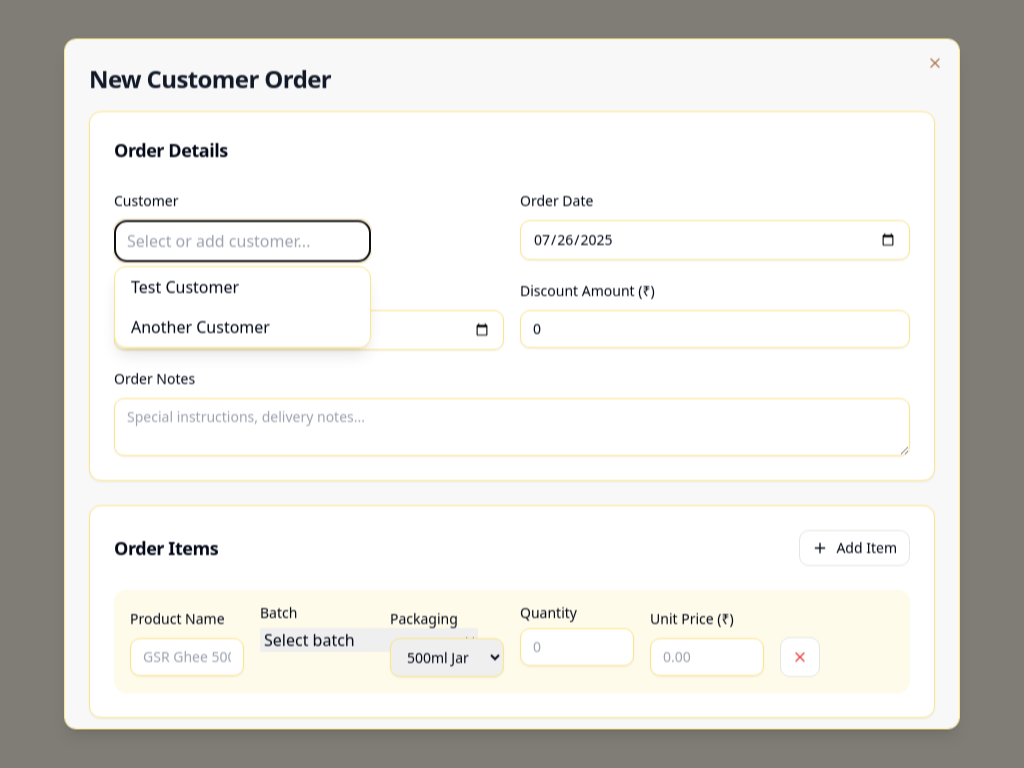
Test: OrderForm › should show validation error message for invalid batch selection
This screenshot has width=1024, height=768.
Select batch and enter excessive quantity
Select "GR-2024-001 20L available" in the dropdown named "batch": (369, 640) [260, 628, 478, 652]
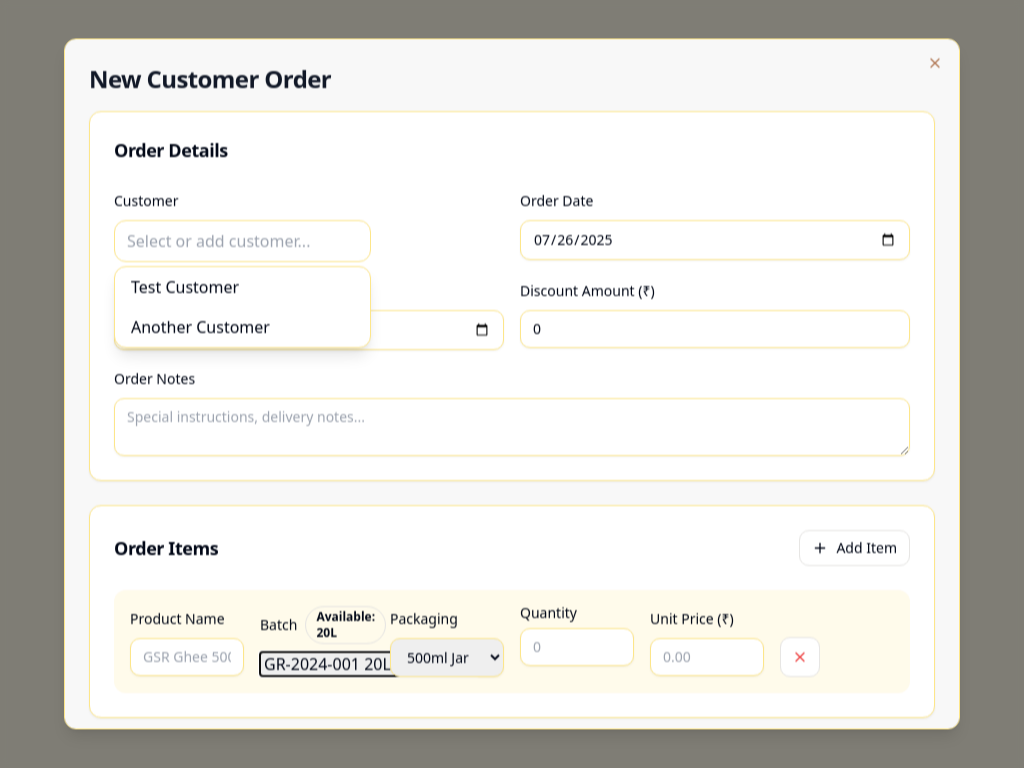
In the number field labelled "Quantity": (577, 647) [520, 628, 634, 666], type "30"
(page scrolled)
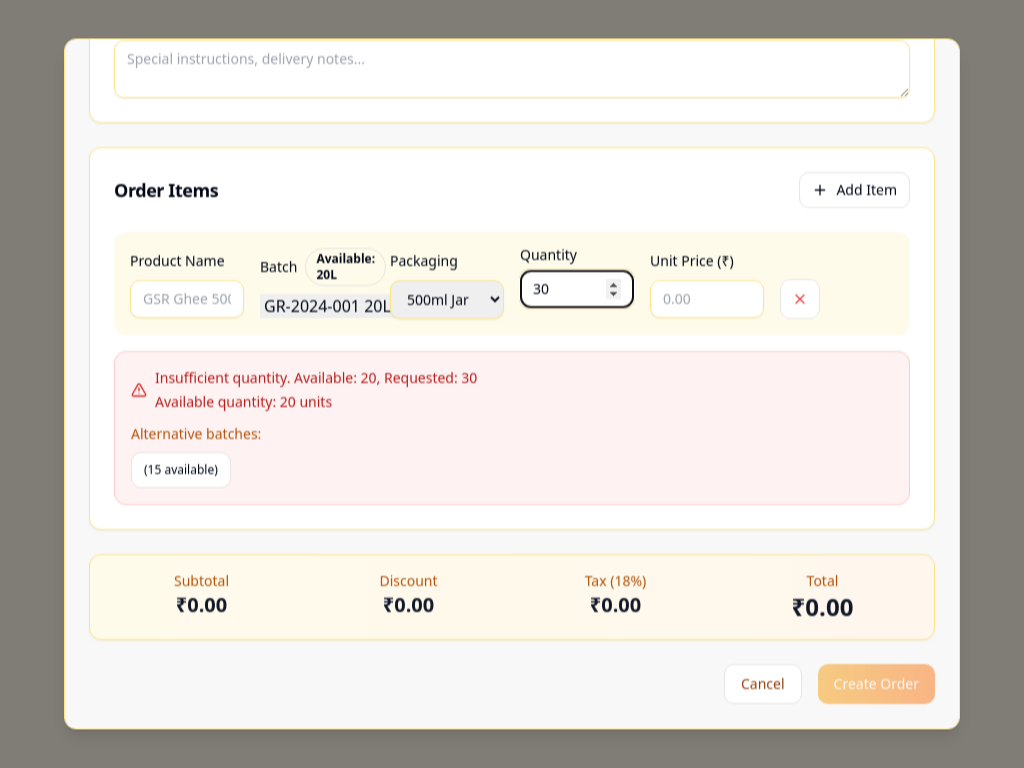
Now the text "Insufficient quantity. Available: 20, Requested: 30" is shown, box [155, 368, 477, 387]
Now the text "Available quantity: 20 units" is shown, box [155, 392, 332, 411]
